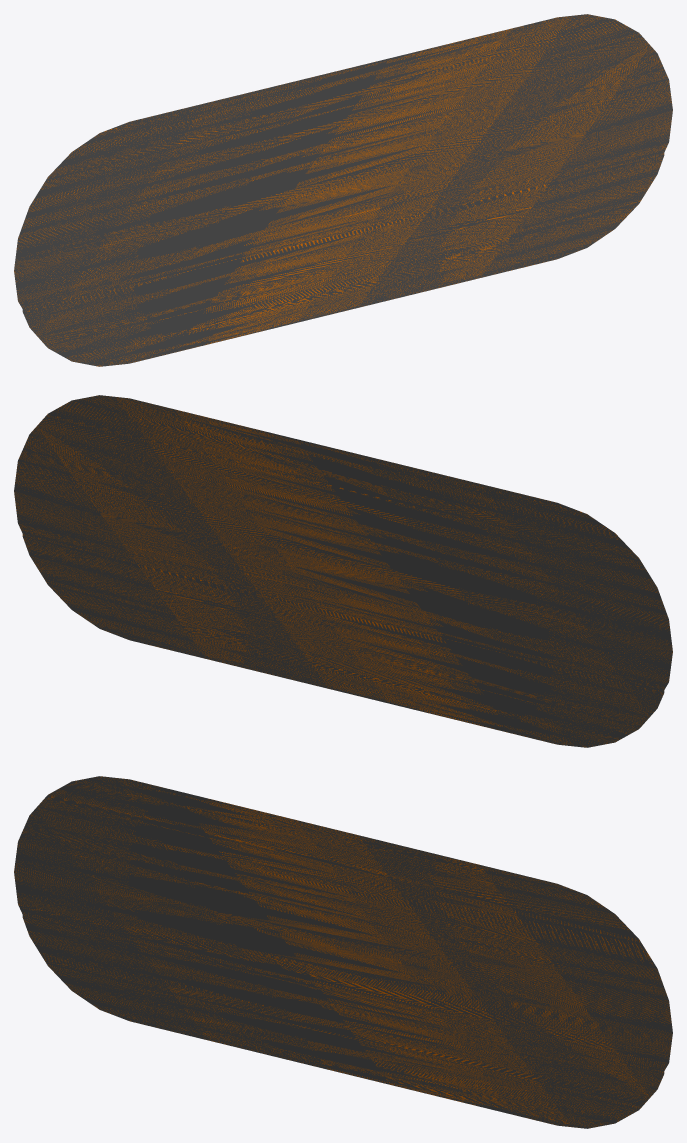
File: original-25.obj
3 renders of one model, top to bottom at view 1: azimuth 30°, elevation 25°; view 2: azimuth 150°, elevation 25°; view 3: azimuth 330°, elevation 25°, orthographic.
Visible parts, largest first — view 1: mesh1/mesh1-geometry/material_6/component_10#mesh1-geometry; view 2: mesh1/mesh1-geometry/material_6/component_10#mesh1-geometry; view 3: mesh1/mesh1-geometry/material_6/component_10#mesh1-geometry.
Part boxes in pixels (x1=…): mesh1/mesh1-geometry/material_6/component_10#mesh1-geometry: x1=14, y1=14, x2=672, y2=366; mesh1/mesh1-geometry/material_6/component_10#mesh1-geometry: x1=14, y1=395, x2=672, y2=747; mesh1/mesh1-geometry/material_6/component_10#mesh1-geometry: x1=14, y1=776, x2=672, y2=1128.
Bounding box in the file's own units: 0.0293 × 0.0103 × 0.
